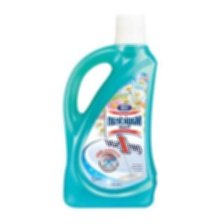cleaning_solution: (60, 10, 159, 209)
